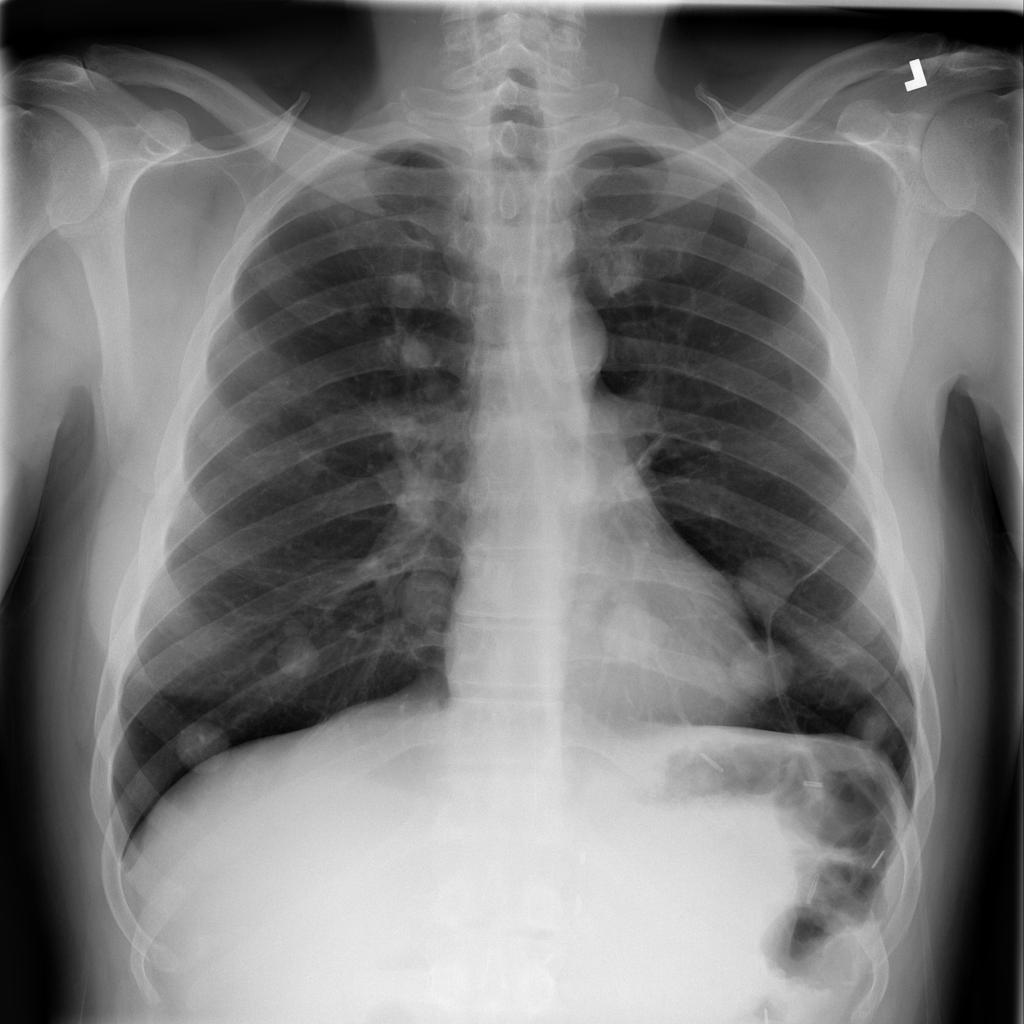nodule: (717, 632, 805, 706), (157, 710, 245, 782), (593, 593, 674, 671), (729, 548, 806, 622), (260, 616, 336, 690), (387, 561, 464, 634), (842, 690, 915, 761), (367, 259, 439, 324), (391, 333, 444, 382), (284, 438, 338, 485)
